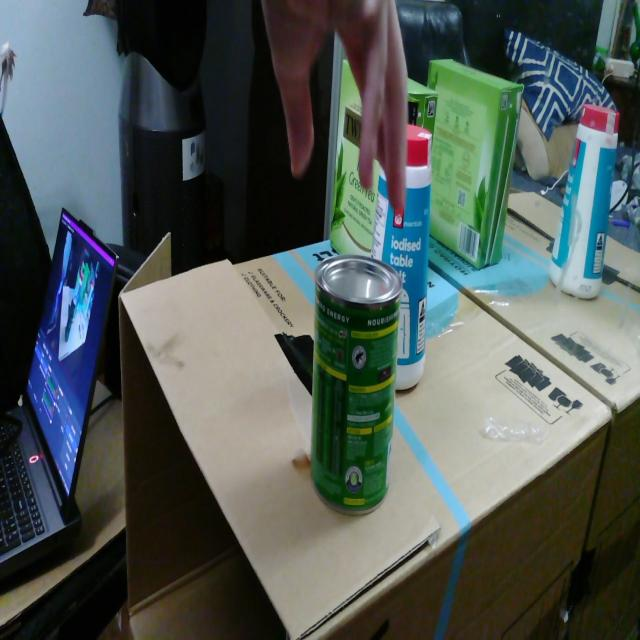nestle_milo_tin: (310, 254, 402, 515)
twinings_greentea_box: (330, 60, 380, 257), (408, 78, 438, 148)
woolworths_salt_bottle: (371, 124, 432, 389)
